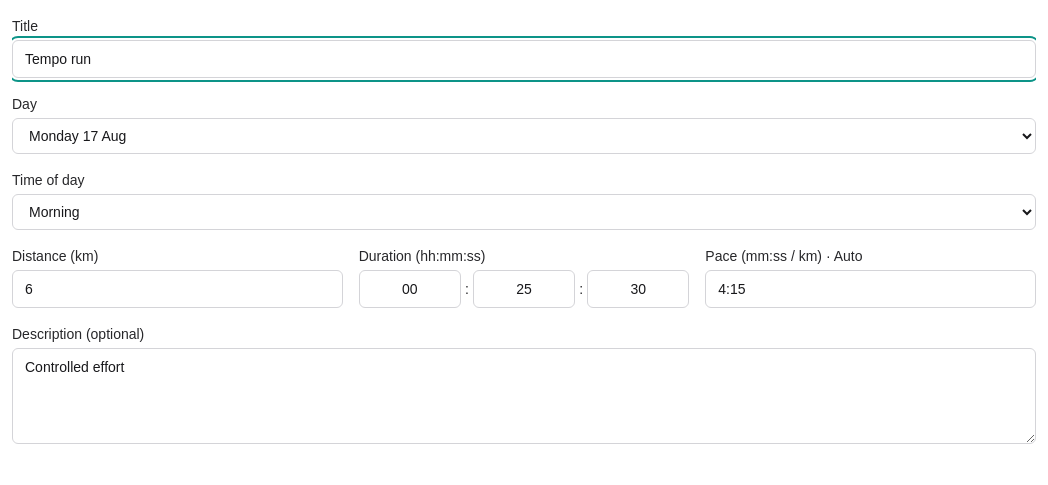
it: shows validation errors without submitting
Clear the field labelled "Title". click: (524, 59)
box: [12,40,1036,78]
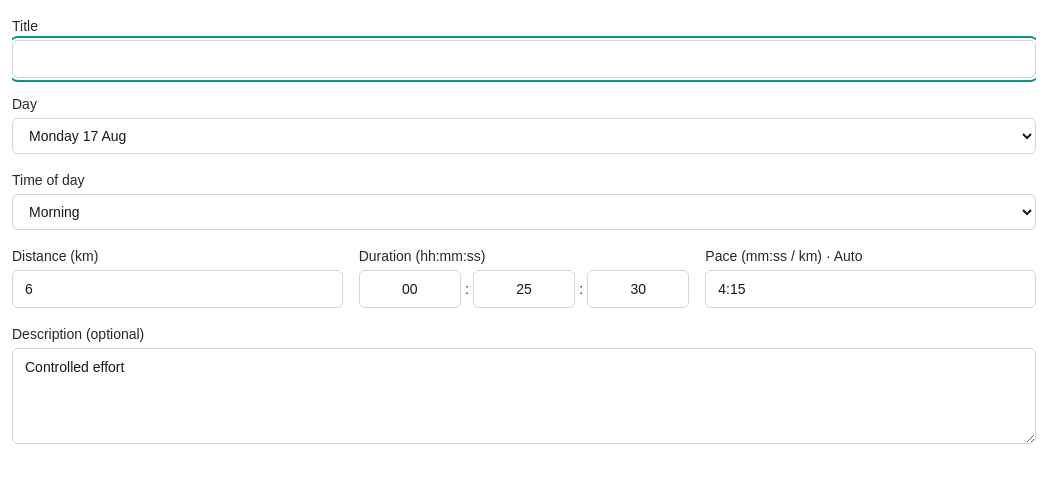
Submit the form labelled "Title"
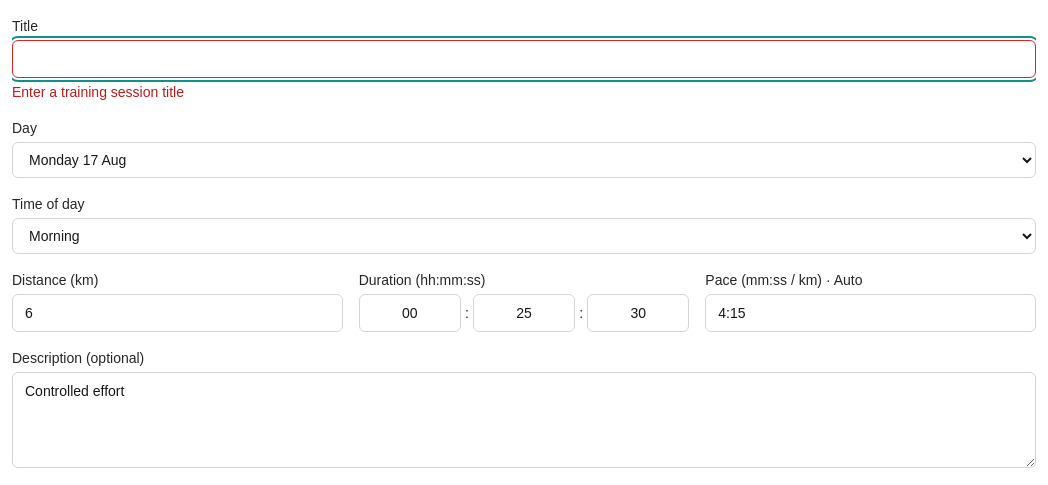
Expected: the text "Enter a training session title" is shown, [12,84,184,100]
